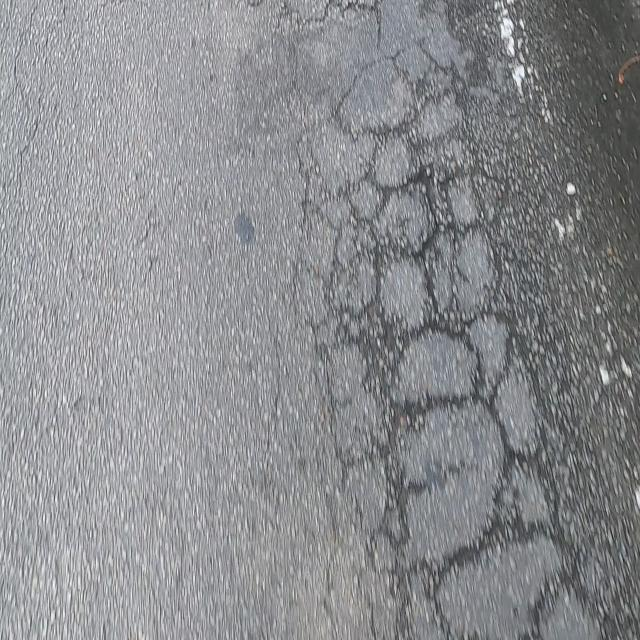Retak-Buaya: (291, 33, 608, 640)
